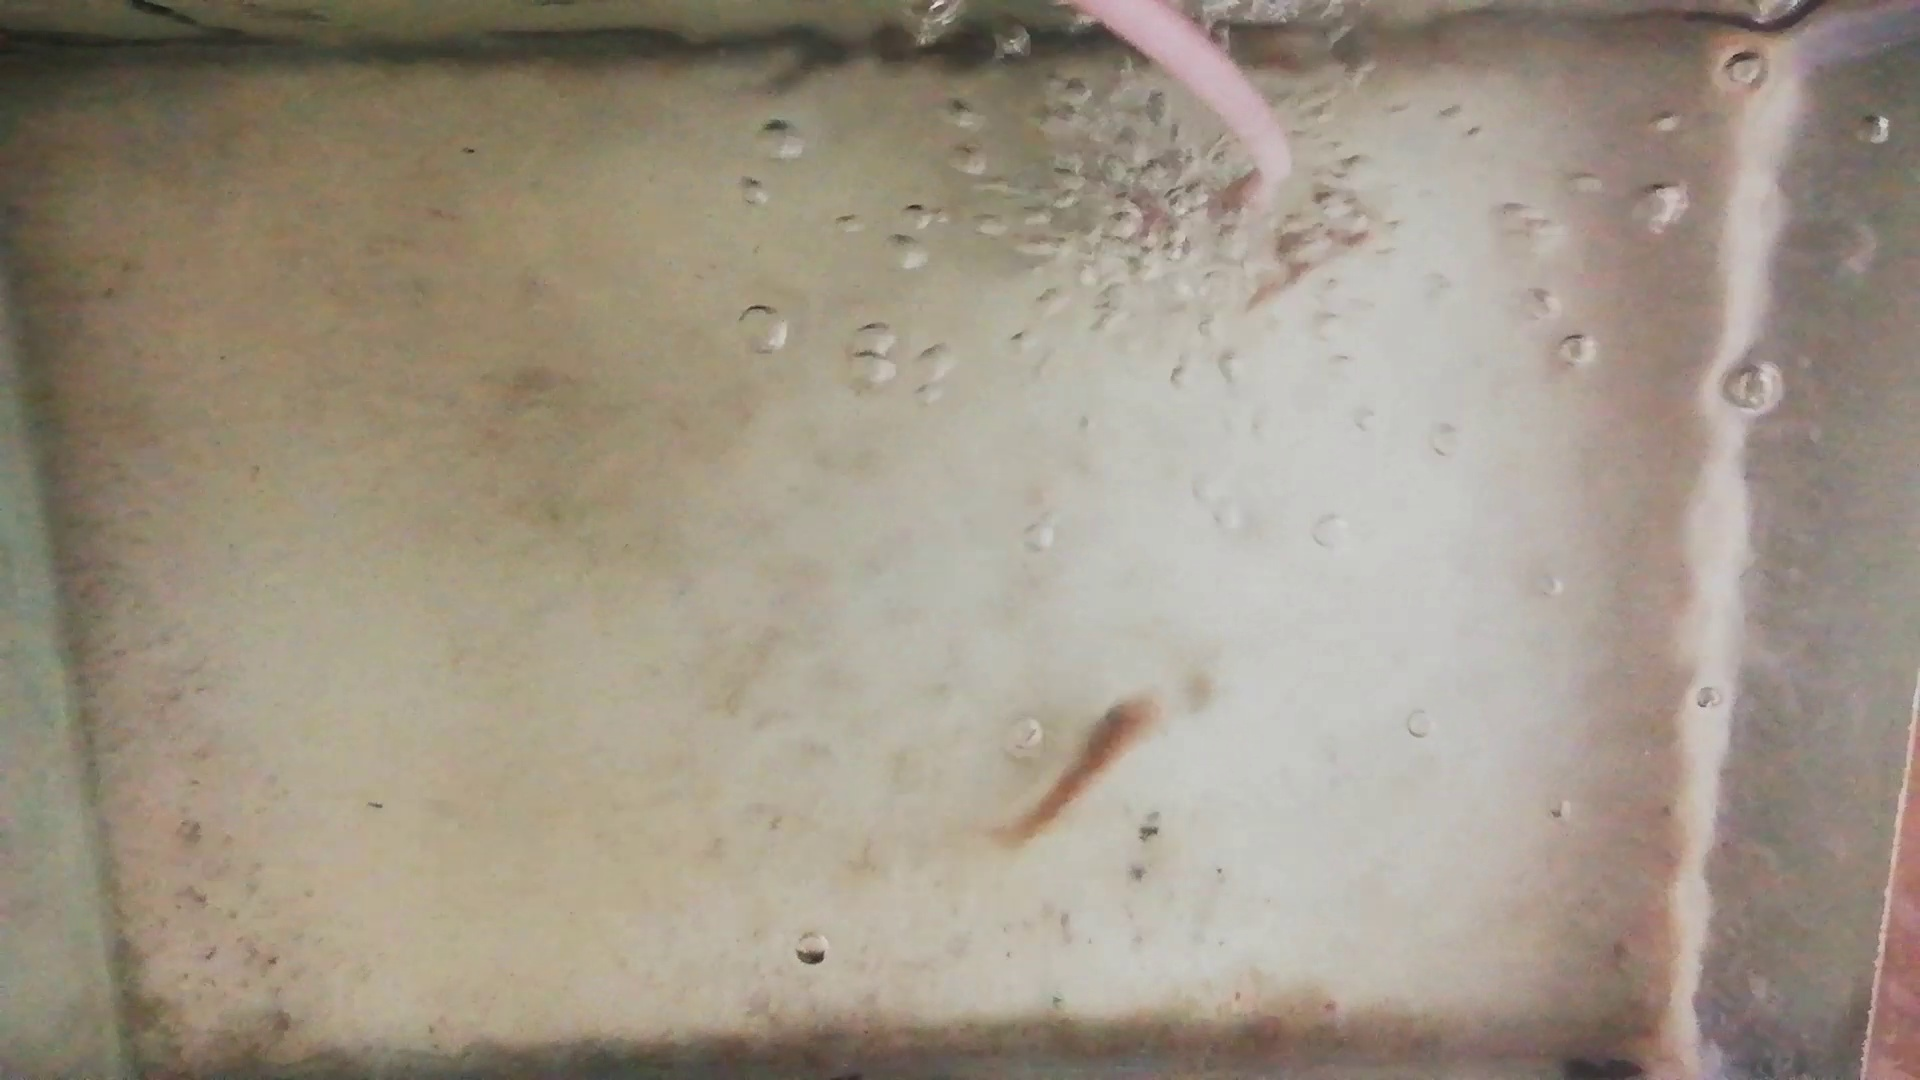fish: (1005, 698, 1155, 845), (1250, 212, 1366, 313)
